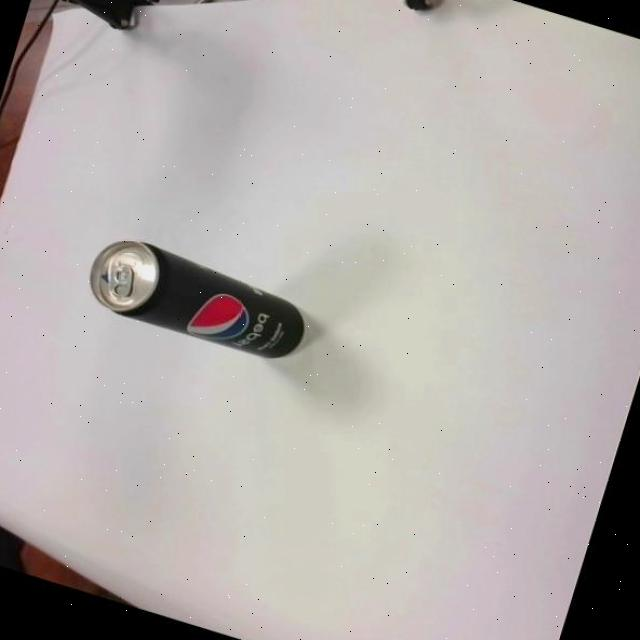debris: (80, 228, 315, 368)
